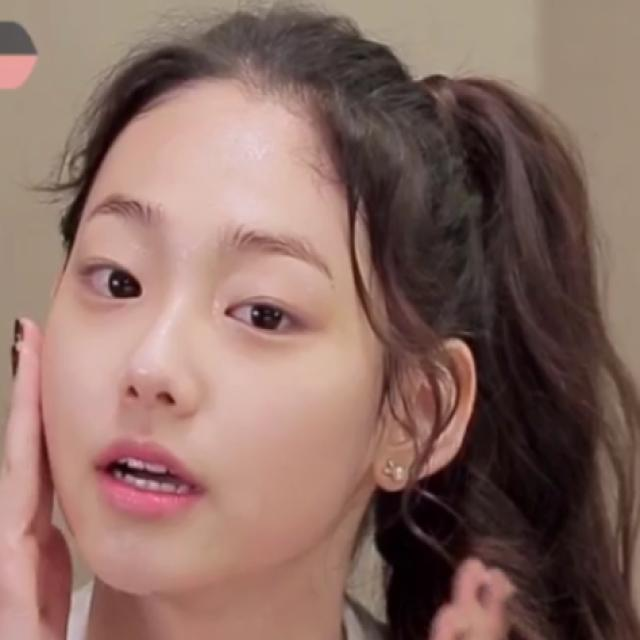face: (35, 62, 378, 596)
